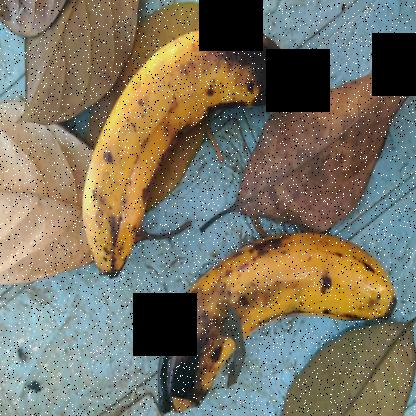overripe: (66, 26, 233, 278), (214, 212, 415, 355)
rotten: (132, 270, 272, 415), (203, 10, 295, 117)
